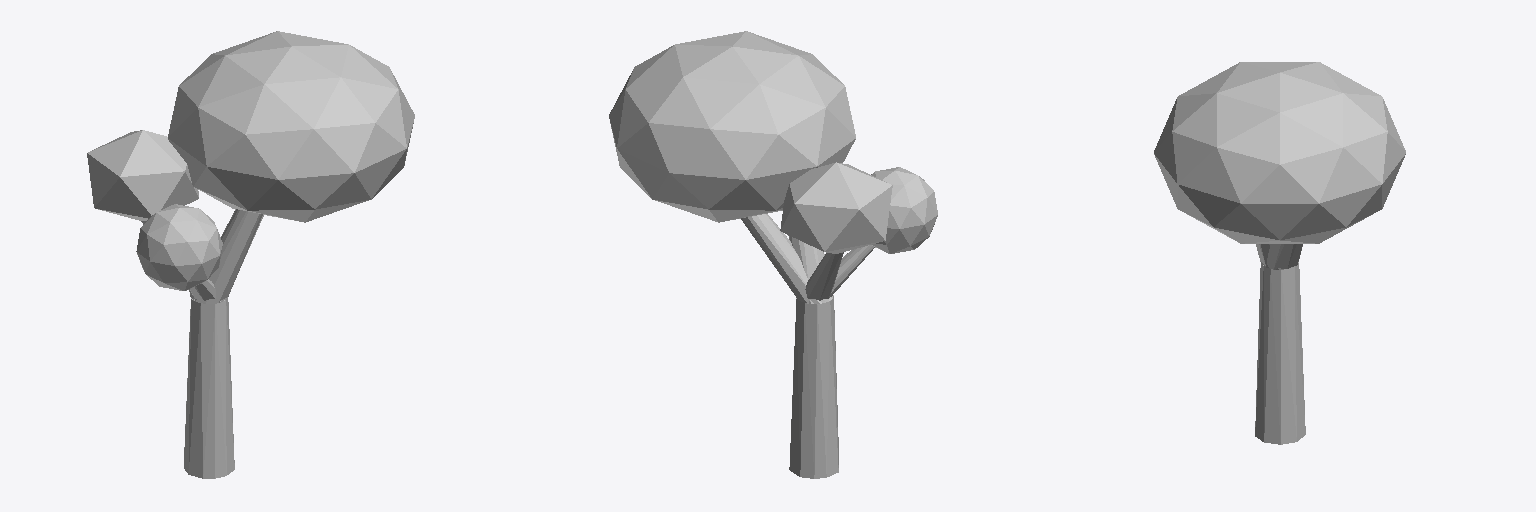
The model's file is tree2.obj.
3 views of the same model, side by side, from view 1: azimuth 30°, elevation 25°; view 2: azimuth 150°, elevation 25°; view 3: azimuth 270°, elevation 25° (orthographic).
Parts seen in each view (by area): view 1: Cone; view 2: Cone; view 3: Cone.
Boxes of the visible parts, box(x1,y1,x2,y2) form: Cone: box(87, 31, 414, 478); Cone: box(609, 31, 937, 478); Cone: box(1154, 62, 1405, 444).
Bounding box in the file's own units: 5.1 × 7 × 4.